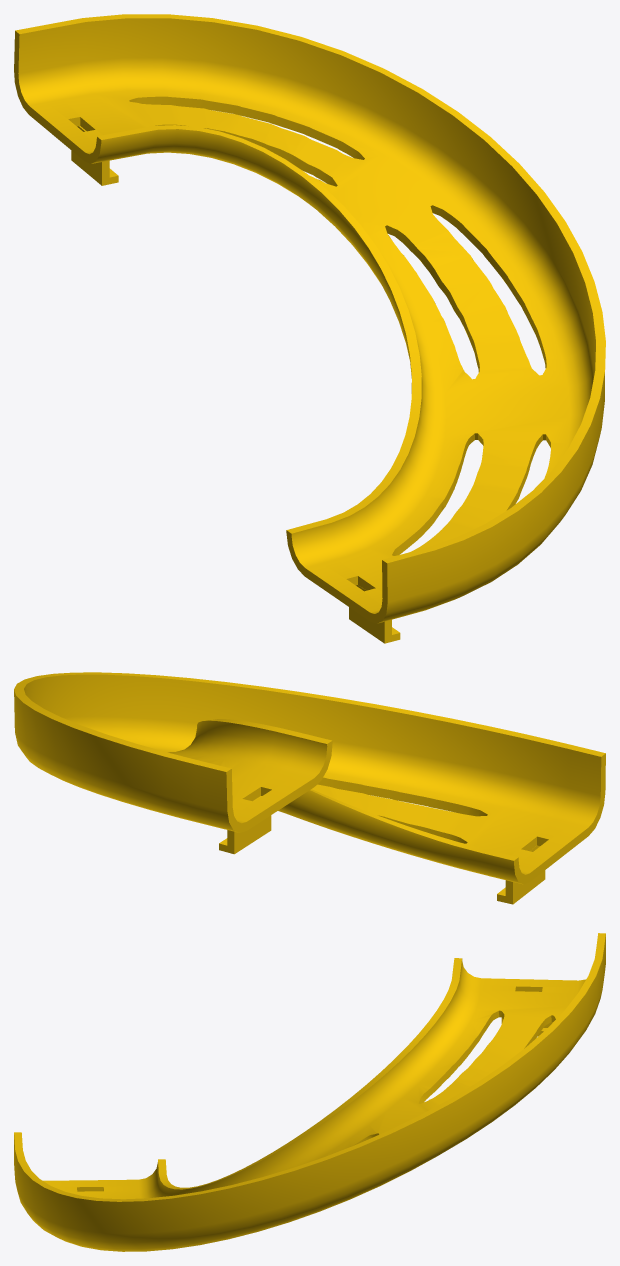
3 renders of one model, top to bottom at view 1: azimuth 30°, elevation 25°; view 2: azimuth 150°, elevation 25°; view 3: azimuth 270°, elevation 25°, orthographic. The views are drawn at different scales.
Parts seen in each view (by area): view 1: T-01; view 2: T-01; view 3: T-01.
Boxes of the visible parts, bbox=[...] form: T-01: bbox=[14, 14, 605, 643]; T-01: bbox=[14, 672, 605, 904]; T-01: bbox=[14, 933, 605, 1251].
Size of the model in its own units: 0.0675 by 0.0653 by 0.1217.
